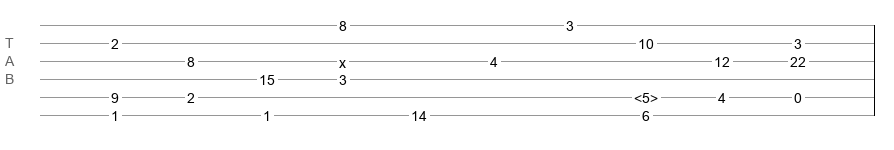0: (794, 90, 802, 100)
1: (111, 108, 119, 118), (263, 108, 271, 118)
10: (638, 36, 654, 46)
12: (714, 54, 730, 64)
14: (411, 108, 427, 118)
15: (259, 72, 275, 82)
2: (111, 36, 119, 46), (187, 90, 195, 100)
22: (790, 54, 806, 64)
3: (339, 72, 347, 82), (566, 18, 574, 28), (794, 36, 802, 46)
4: (490, 54, 498, 64), (718, 90, 726, 100)
6: (642, 108, 650, 118)
8: (187, 54, 195, 64), (339, 18, 347, 28)
9: (111, 90, 119, 100)
harmonic: (634, 90, 658, 100)
x: (339, 55, 346, 63)
